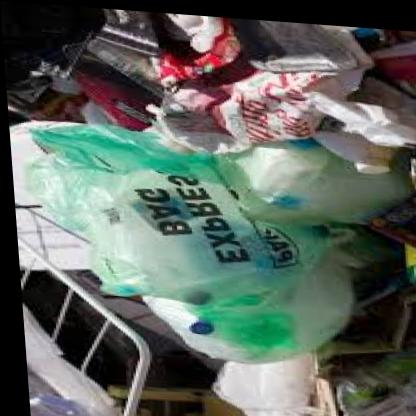Plastic: (8, 104, 318, 352), (190, 85, 416, 250), (176, 353, 334, 416)
